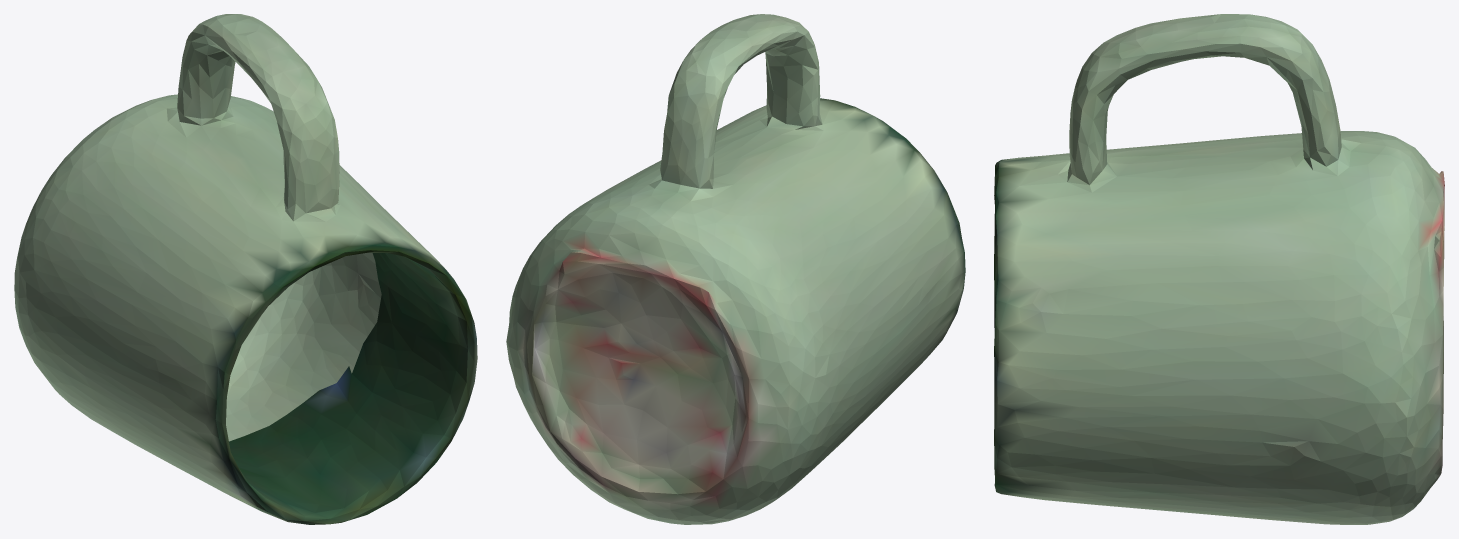
File: scan.obj
3 renders of one model, left to right at view 1: azimuth 30°, elevation 25°; view 2: azimuth 150°, elevation 25°; view 3: azimuth 270°, elevation 25°, orthographic. The views are drawn at different scales.
Parts seen in each view (by area): view 1: scan.ply; view 2: scan.ply; view 3: scan.ply.
Part boxes in pixels (left/top/right/bottom): scan.ply: left=14, top=14, right=477, bottom=524; scan.ply: left=506, top=14, right=965, bottom=524; scan.ply: left=994, top=14, right=1444, bottom=524.
Size of the model in its own units: 0.0923 by 0.1251 by 0.1047.
